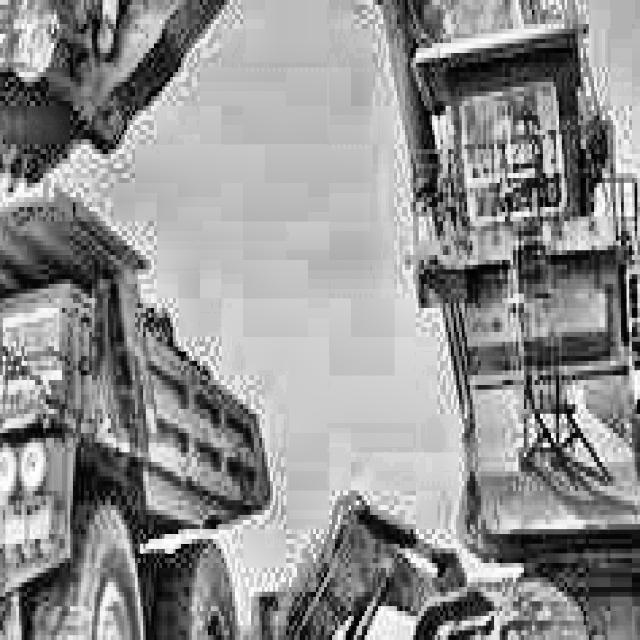dump_truck: (0, 183, 284, 640)
excavator: (0, 0, 640, 640)
